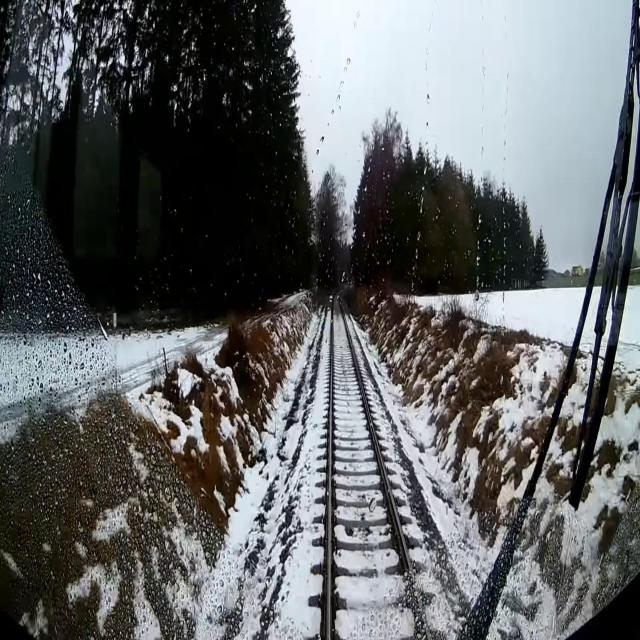rail-track: (331, 292, 425, 639)
